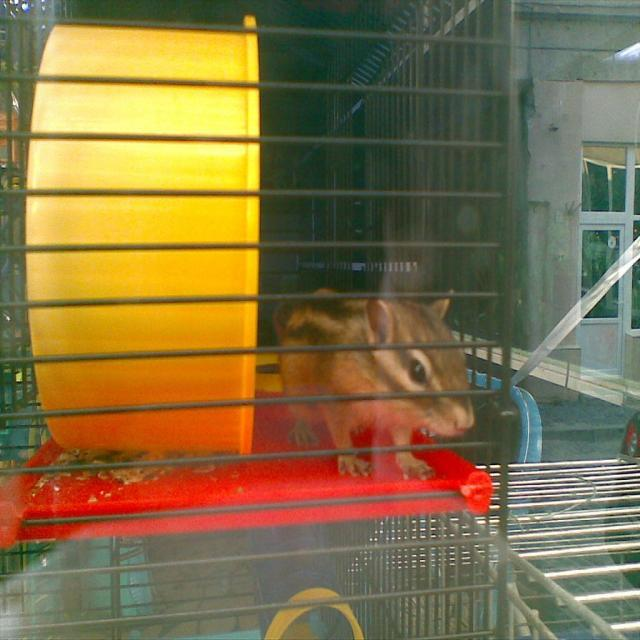rat: (267, 282, 479, 484)
